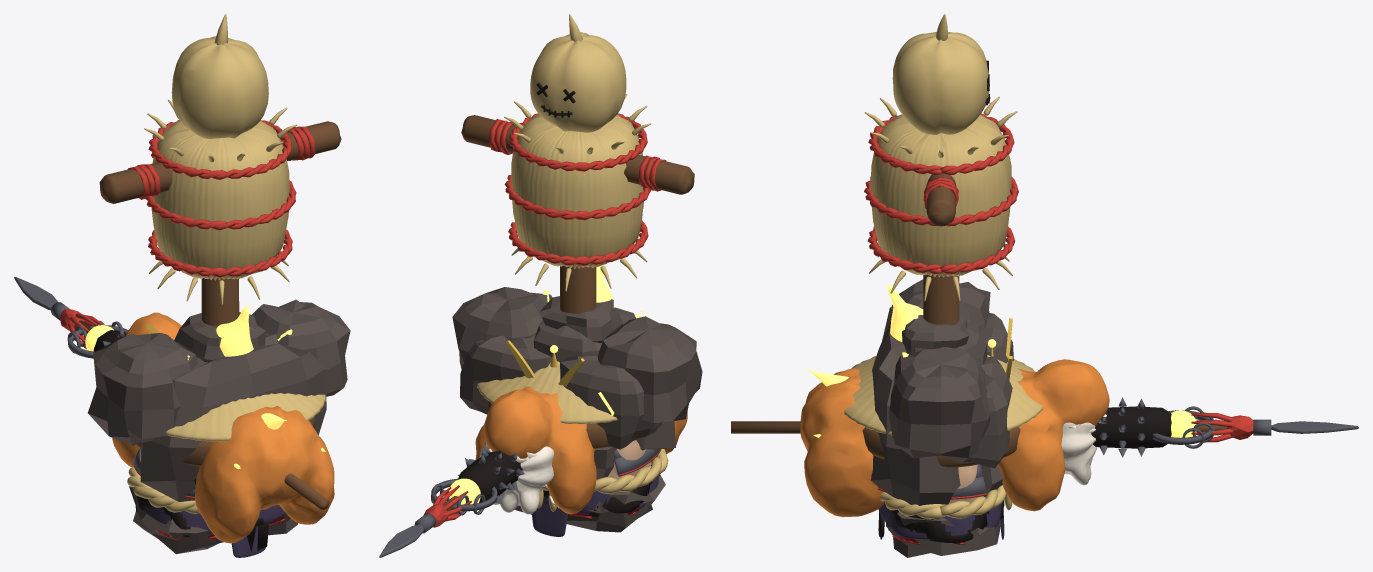
The model's file is NinjaSim_Enemies.fbx.
3 views of the same model, side by side, from view 1: azimuth 30°, elevation 25°; view 2: azimuth 150°, elevation 25°; view 3: azimuth 270°, elevation 25° (orthographic). The views are drawn at different scales.
Visible parts, largest first — view 1: GolemTorso__Rock, Dummy__Straw, FoxBody__Fur, Dummy__Rope, Dummy__Wood, EnemyHat_Kasa__Straw, WispBody__Flame, EnemyOniTorso__Cloth, EnemyOniTorso__Rope, EnemyOniTorso__Stripe, EnemyYari__Blade, EnemyYari__Tassel (+2 smaller); view 2: GolemTorso__Rock, Dummy__Straw, FoxBody__Fur, Dummy__Rope, Dummy__Wood, EnemyHat_Kasa__Straw, FoxBody__Fluff, GolemArm__Rock, EnemyKanabo__Wood, EnemyOniTorso__Cloth, EnemyOniTorso__Rope, EnemyYari__Blade (+9 smaller); view 3: GolemTorso__Rock, Dummy__Straw, FoxBody__Fur, Dummy__Rope, Dummy__Wood, EnemyHat_Kasa__Straw, EnemyKanabo__Wood, EnemyOniTorso__Rope, FoxBody__Fluff, EnemyOniTorso__Stripe, EnemyOniTorso__Cloth, WispBody__Flame (+4 smaller).
Part boxes in pixels (bbox=[...]): GolemTorso__Rock: bbox=[88, 299, 350, 554]; Dummy__Straw: bbox=[144, 14, 297, 304]; FoxBody__Fur: bbox=[112, 312, 334, 543]; Dummy__Rope: bbox=[127, 119, 315, 277]; Dummy__Wood: bbox=[99, 121, 341, 466]; EnemyHat_Kasa__Straw: bbox=[166, 393, 326, 441]; WispBody__Flame: bbox=[187, 306, 325, 468]; EnemyOniTorso__Cloth: bbox=[137, 505, 286, 557]; EnemyOniTorso__Rope: bbox=[127, 467, 199, 513]; EnemyOniTorso__Stripe: bbox=[135, 496, 268, 552]; EnemyYari__Blade: bbox=[14, 277, 69, 320]; EnemyYari__Tassel: bbox=[60, 308, 104, 349]; GolemTorso__Rock: bbox=[452, 287, 702, 532]; Dummy__Straw: bbox=[504, 14, 650, 291]; FoxBody__Fur: bbox=[475, 386, 687, 514]; Dummy__Rope: bbox=[489, 113, 666, 265]; Dummy__Wood: bbox=[461, 115, 694, 448]; EnemyHat_Kasa__Straw: bbox=[477, 361, 617, 424]; FoxBody__Fluff: bbox=[480, 440, 558, 514]; GolemArm__Rock: bbox=[533, 320, 601, 362]; EnemyKanabo__Wood: bbox=[457, 451, 522, 502]; EnemyOniTorso__Cloth: bbox=[532, 475, 658, 536]; EnemyOniTorso__Rope: bbox=[537, 449, 668, 511]; EnemyYari__Blade: bbox=[379, 513, 436, 557]; GolemTorso__Rock: bbox=[871, 279, 1013, 557]; Dummy__Straw: bbox=[864, 14, 1017, 301]; FoxBody__Fur: bbox=[800, 359, 1109, 517]; Dummy__Rope: bbox=[864, 113, 1018, 273]; Dummy__Wood: bbox=[862, 173, 1020, 467]; EnemyHat_Kasa__Straw: bbox=[844, 355, 1042, 435]; EnemyKanabo__Wood: bbox=[1091, 406, 1171, 448]; EnemyOniTorso__Rope: bbox=[880, 485, 1012, 519]; FoxBody__Fluff: bbox=[1061, 414, 1106, 485]; EnemyOniTorso__Stripe: bbox=[878, 500, 1004, 543]; EnemyOniTorso__Cloth: bbox=[879, 503, 1004, 539]; WispBody__Flame: bbox=[806, 284, 923, 437].
Bounding box in the file's own units: 3.81 × 7.99 × 8.66.
